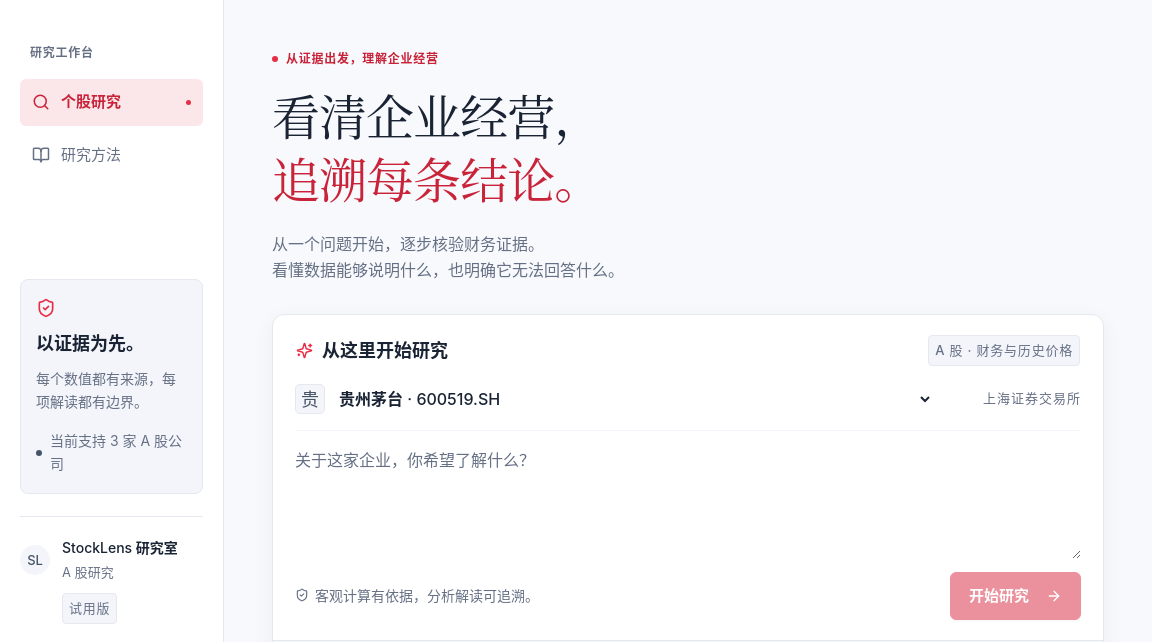
Scenario: Simplified Chinese presentation › rounds cards and factual narratives while preserving evidence precision and API objects
In the text box named "研究问题": (688, 502) [295,446,1081,558], type "Compare growth"
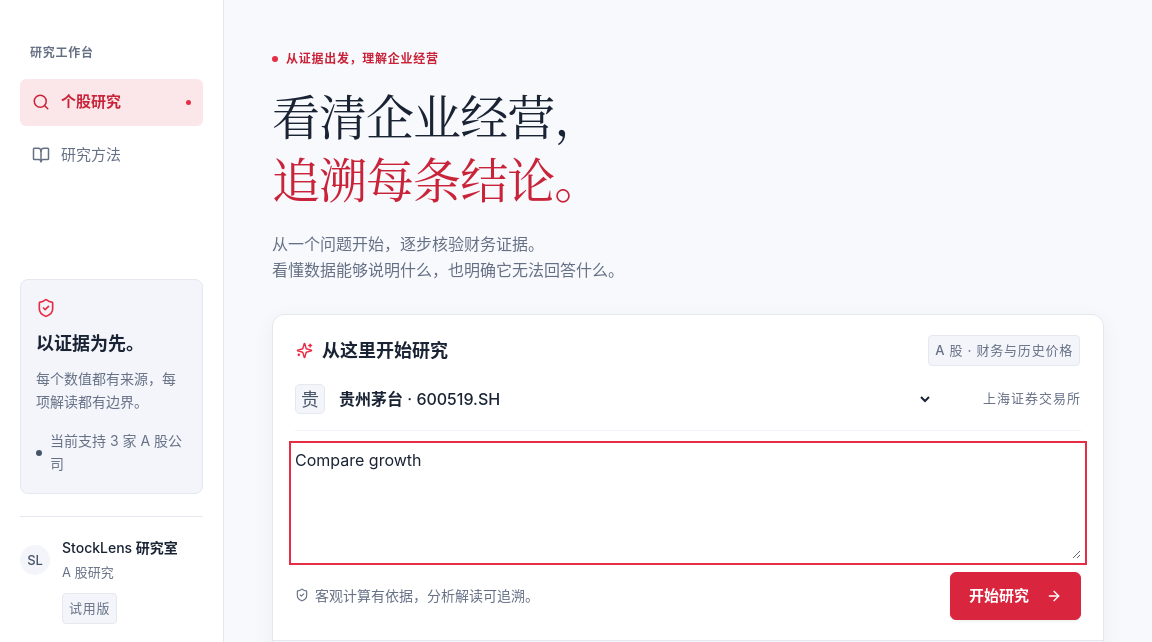
Click the button "开始研究": (1016, 596) [950,572,1081,620]
(page scrolled)
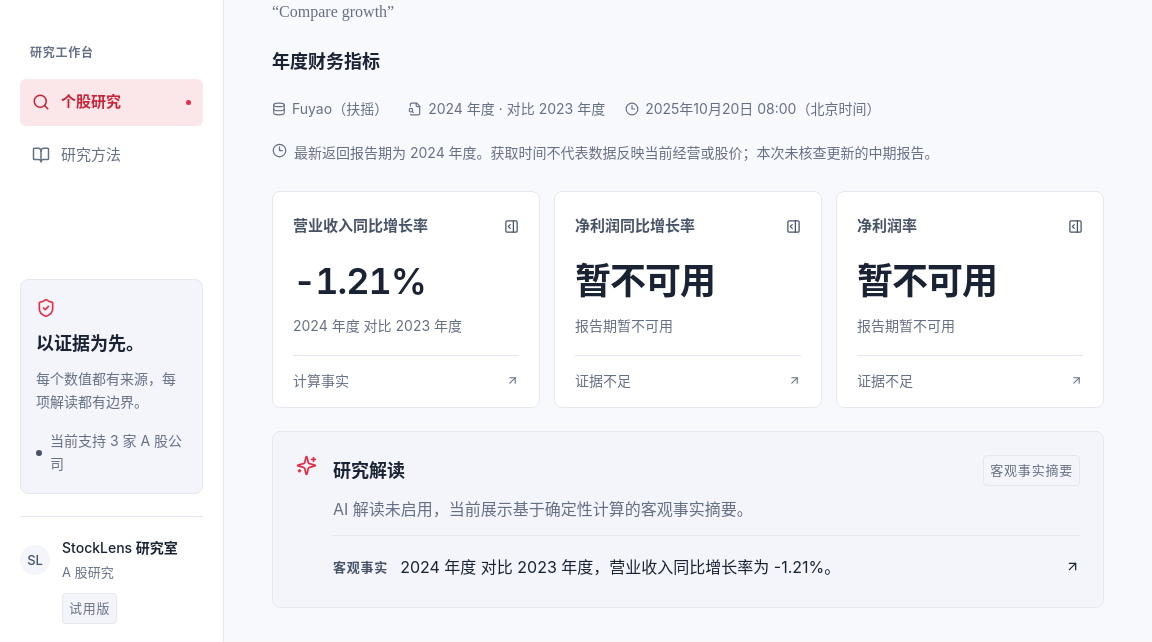
Now the text "-1.21%" is shown, box [293,259,426,303]
Now the number of buttons "客观事实 2024 年度 对比 2023 年度，营业收入同比增长率为 -1.21%。" is 2
Click the button "营业收入同比增长率 -1.21% 2024 年度 对比 2023 年度 计算事实": (406, 300) [272,191,540,408]
(page scrolled)
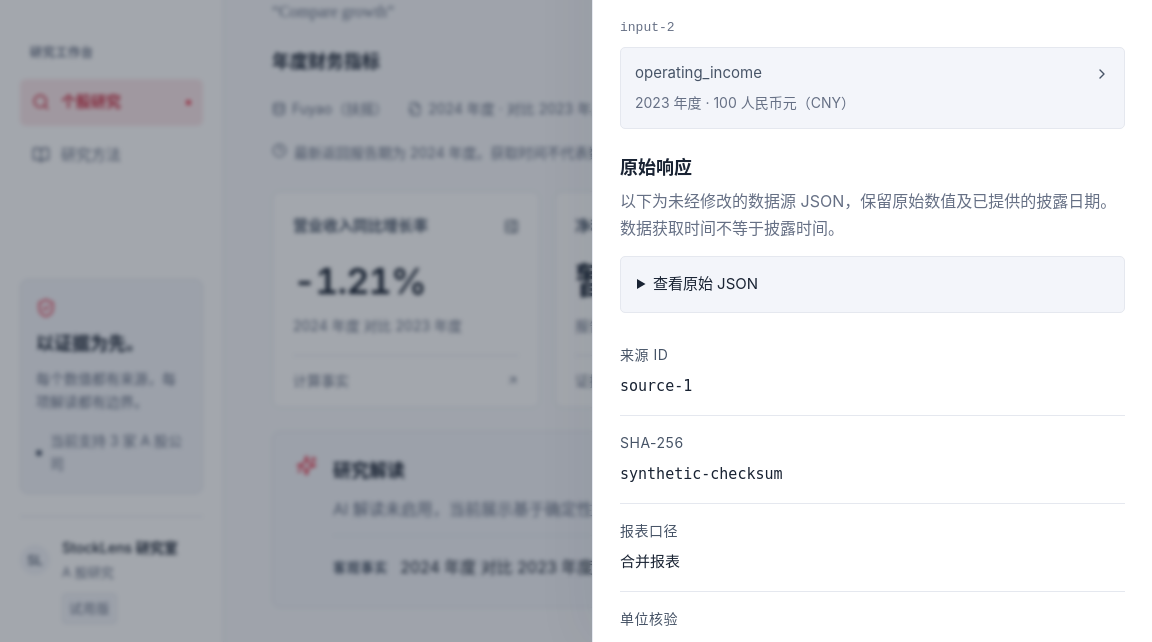
Click the heading "查看原始 JSON": (706, 284) [653,274,758,293]
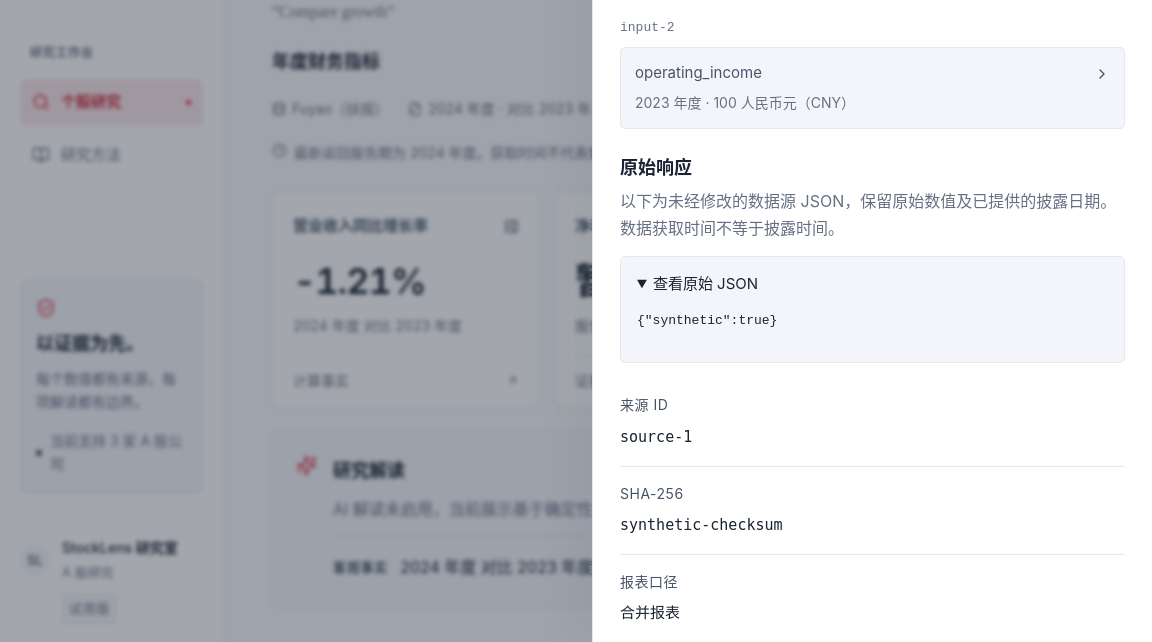
Now the text "{\"synthetic\":true}" is shown, box [637,313,777,328]
